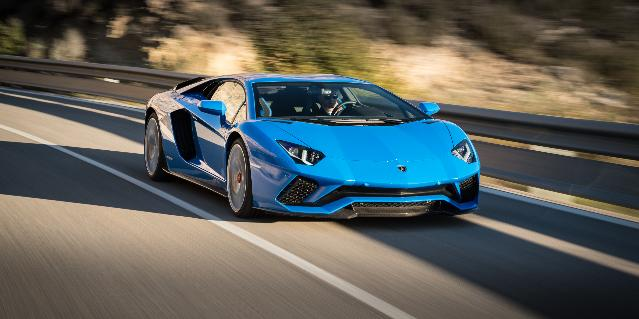lamborghini: (144, 74, 482, 220)
